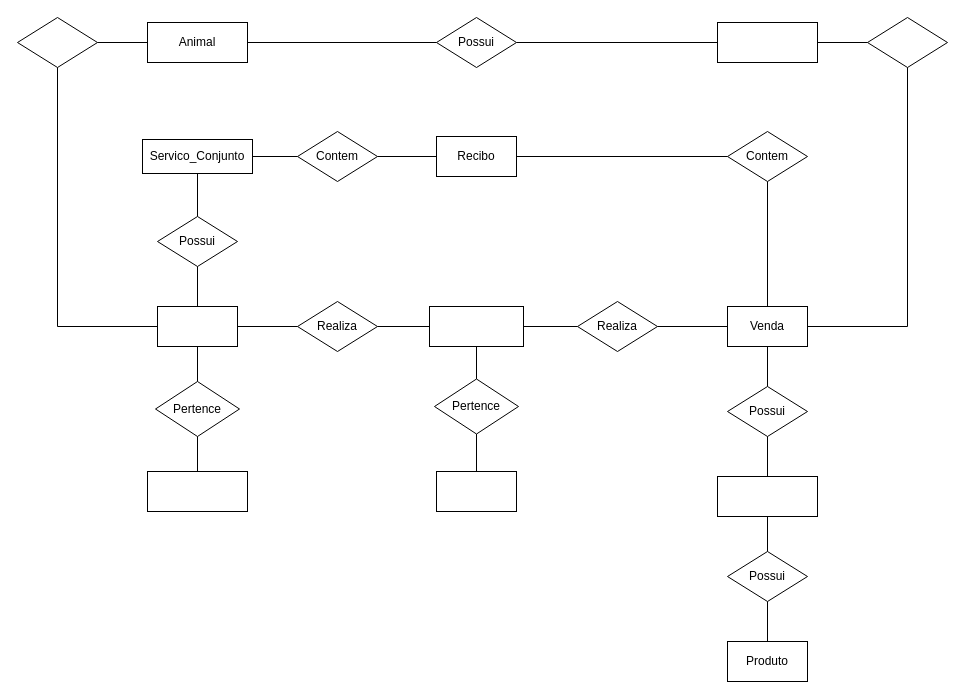
This 965x699 diagram has some shape labels left out. Here are the shapes that lost their labels. From the top down, the centre of each, then its label:
At (x=57, y=42): "Recebe".
At (x=767, y=42): "Cliente".
At (x=907, y=42): "Compra".
At (x=197, y=326): "Servico".
At (x=476, y=326): "Funcionario".
At (x=197, y=491): "Tipo_Servico".
At (x=476, y=491): "Cargo".
At (x=767, y=496): "Item_Venda".
